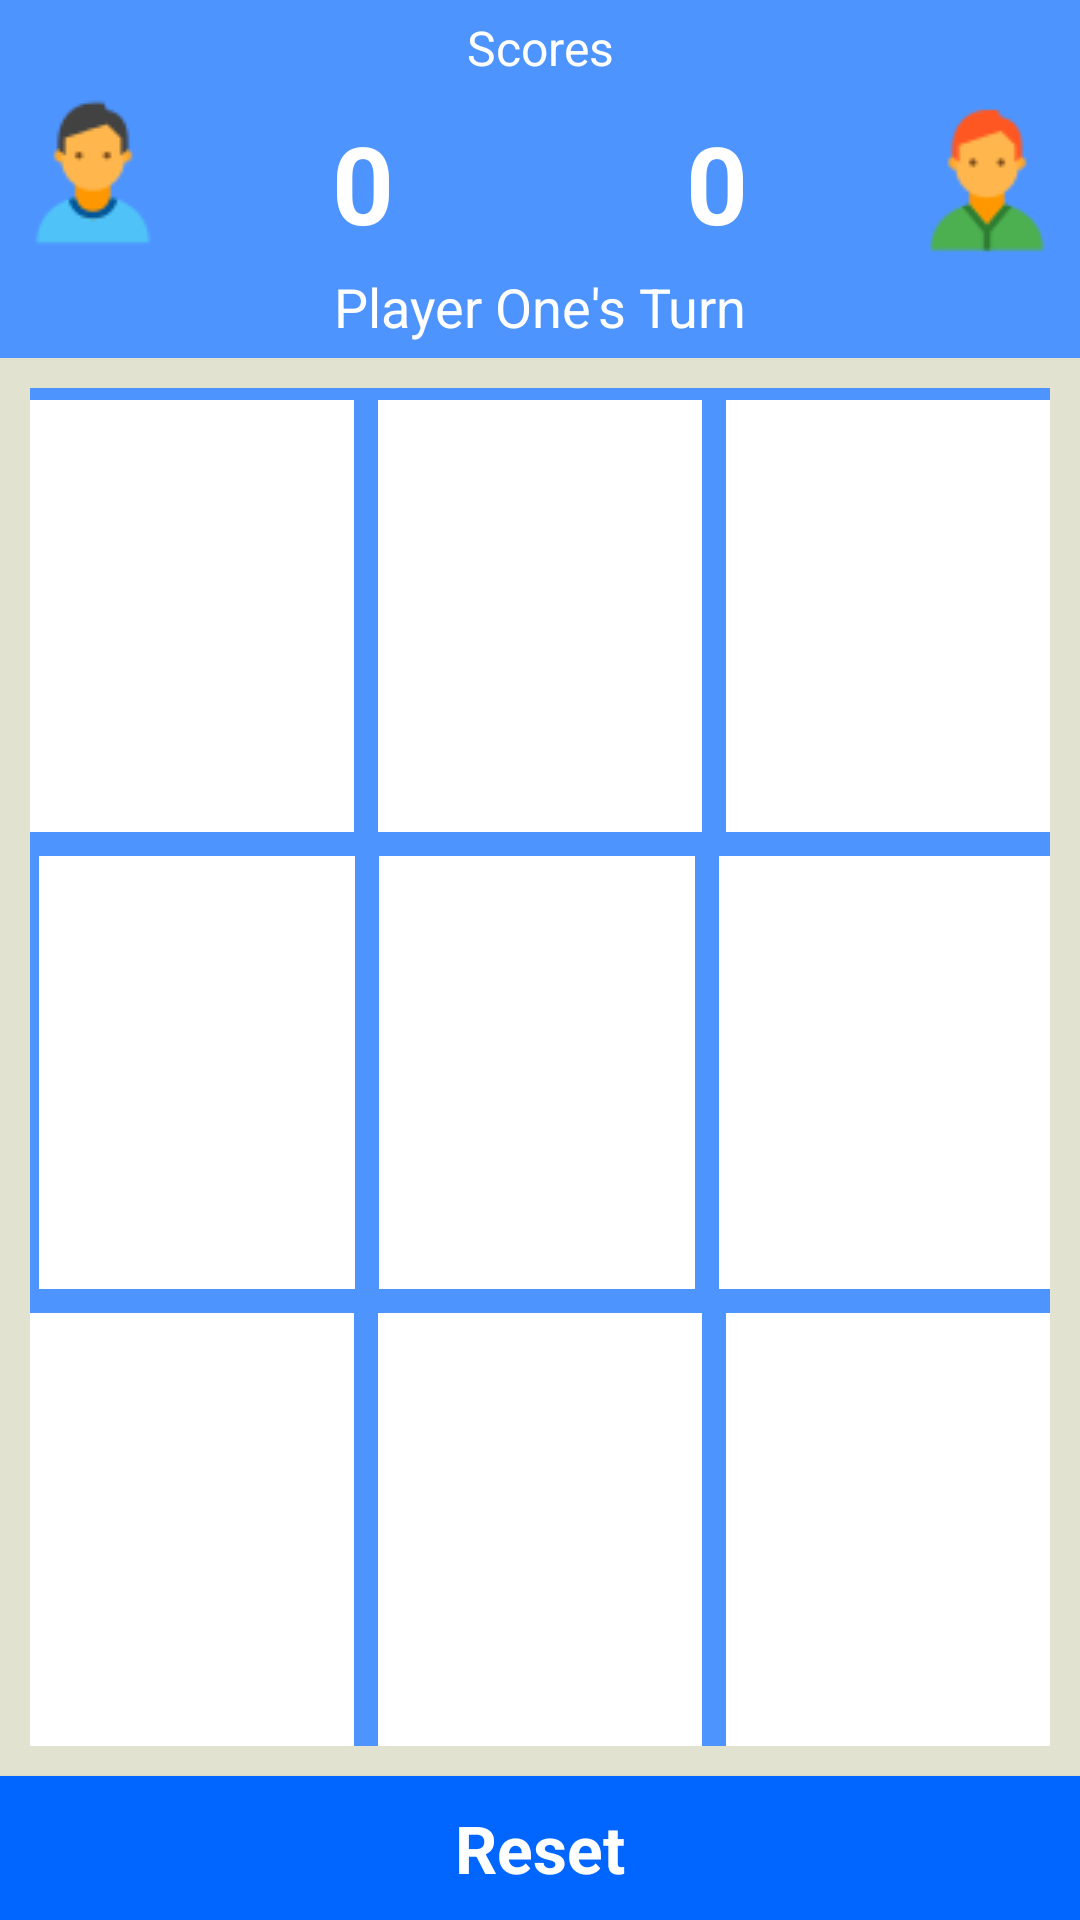

Icon bounding boxes for this 1080 x 1920 phone screenshot, format (x1, y1, x2, y2):
user: (37, 101, 149, 242)
user two: (929, 109, 1045, 252)
